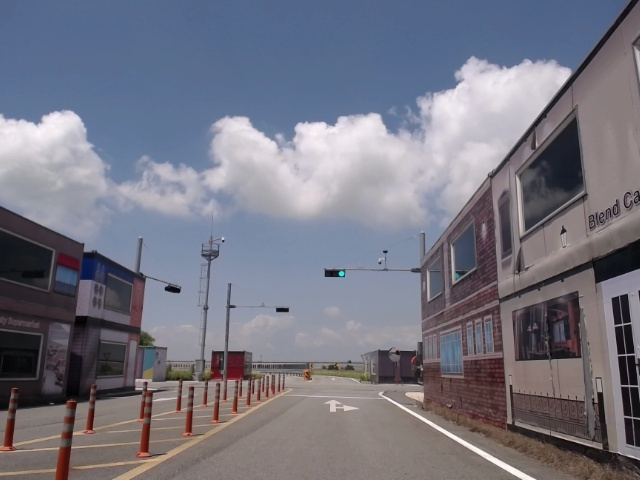green_3: (326, 271, 346, 277)
